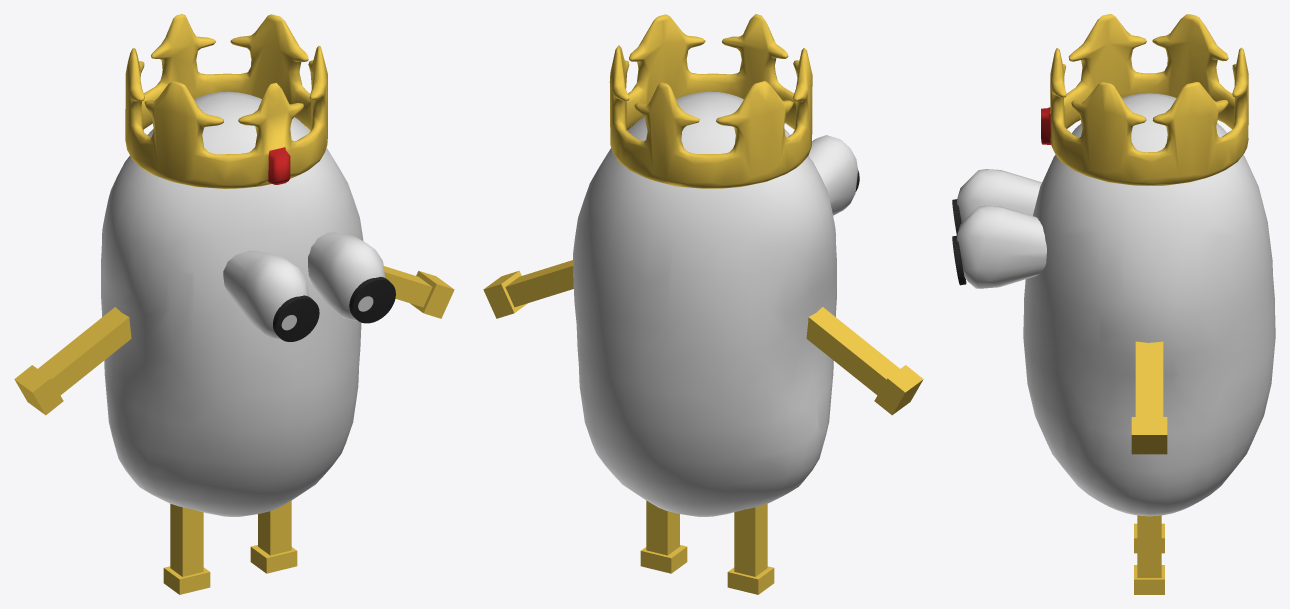
File: potato2222.fbx
3 views of the same model, side by side, from view 1: azimuth 30°, elevation 25°; view 2: azimuth 150°, elevation 25°; view 3: azimuth 270°, elevation 25° (orthographic). The views are drawn at different scales.
Visible parts, largest first — view 1: Sphere, Cylinder, Sphere.001, Sphere.002, Cube.001, Cube.005, Cube.007; view 2: Sphere, Cylinder, Cube.001, Cube.005, Cube.007, Sphere.001; view 3: Sphere, Cylinder, Sphere.002, Cube.007, Sphere.001, Cube.001.
Boxes of the visible parts, x1=… form: Sphere: x1=101, y1=91, x2=363, y2=516; Cylinder: x1=125, y1=14, x2=327, y2=188; Sphere.001: x1=223, y1=250, x2=319, y2=341; Sphere.002: x1=308, y1=232, x2=395, y2=323; Cube.001: x1=163, y1=500, x2=297, y2=594; Cube.005: x1=14, y1=307, x2=131, y2=415; Cube.007: x1=384, y1=266, x2=454, y2=318; Sphere: x1=573, y1=91, x2=836, y2=516; Cylinder: x1=609, y1=14, x2=812, y2=188; Cube.001: x1=640, y1=500, x2=774, y2=594; Cube.005: x1=806, y1=307, x2=923, y2=415; Cube.007: x1=483, y1=260, x2=573, y2=318; Sphere.001: x1=808, y1=135, x2=859, y2=215; Sphere: x1=1023, y1=93, x2=1275, y2=516; Cylinder: x1=1041, y1=14, x2=1248, y2=185; Sphere.002: x1=952, y1=205, x2=1046, y2=288; Cube.007: x1=1131, y1=341, x2=1167, y2=454; Sphere.001: x1=952, y1=169, x2=1041, y2=235; Cube.001: x1=1134, y1=515, x2=1164, y2=594.
Size of the model in its own units: 1271 by 1516 by 861.
